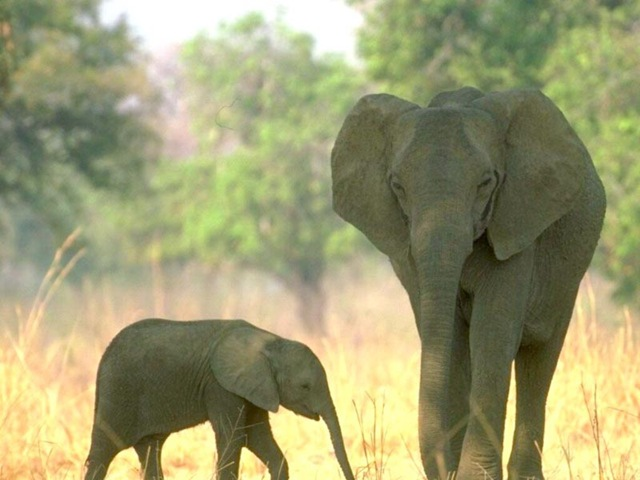elephant: (323, 63, 613, 479), (71, 310, 357, 480)
